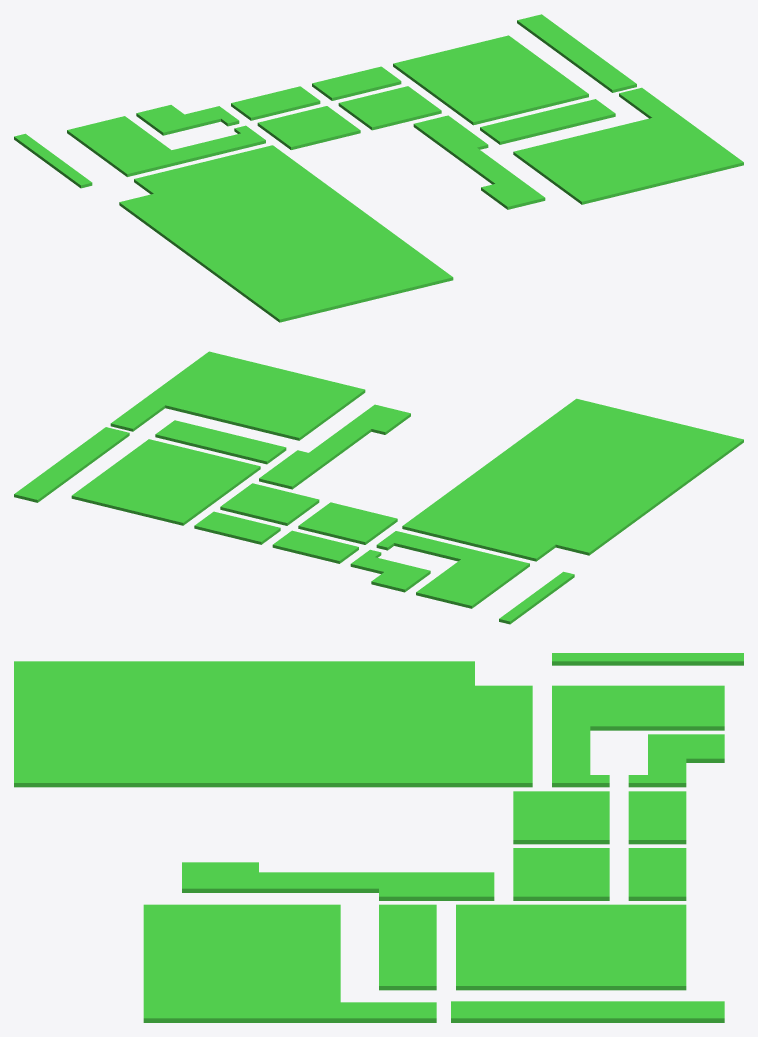
The model's file is ground.fbx.
The picture shows the model from 3 angles, top to bottom: view 1: azimuth 30°, elevation 25°; view 2: azimuth 150°, elevation 25°; view 3: azimuth 270°, elevation 25°; orthographic projection. The views are drawn at different scales.
Parts seen in each view (by area): view 1: Cube.1171, Cube.1160, Cube.1156, Cube.1142, Cube.1158, Cube.1157, Cube.1159, Cube.1143, Cube.1155, Cube.1231, Cube.1144, Cube.1154 (+1 smaller); view 2: Cube.1171, Cube.1160, Cube.1156, Cube.1142, Cube.1158, Cube.1157, Cube.1159, Cube.1155, Cube.1143, Cube.1231, Cube.1154, Cube.1144 (+1 smaller); view 3: Cube.1171, Cube.1160, Cube.1156, Cube.1142, Cube.1158, Cube.1159, Cube.1143, Cube.1155, Cube.1157, Cube.1231, Cube.1144, Cube.1154 (+1 smaller).
Boxes of the visible parts, <box> form: Cube.1171: <box>119,145,453,322</box>; Cube.1160: <box>513,87,743,204</box>; Cube.1156: <box>393,35,588,125</box>; Cube.1142: <box>67,116,265,176</box>; Cube.1158: <box>413,115,545,209</box>; Cube.1157: <box>480,99,615,144</box>; Cube.1159: <box>517,14,636,92</box>; Cube.1143: <box>257,106,360,149</box>; Cube.1155: <box>338,86,441,130</box>; Cube.1231: <box>136,105,239,135</box>; Cube.1144: <box>231,86,320,120</box>; Cube.1154: <box>312,66,401,100</box>; Cube.1171: <box>402,398,743,561</box>; Cube.1160: <box>110,351,365,440</box>; Cube.1156: <box>71,439,260,525</box>; Cube.1142: <box>376,531,529,608</box>; Cube.1158: <box>259,404,410,489</box>; Cube.1157: <box>155,420,286,464</box>; Cube.1159: <box>14,427,129,502</box>; Cube.1155: <box>220,483,319,525</box>; Cube.1143: <box>298,502,397,544</box>; Cube.1231: <box>350,549,430,592</box>; Cube.1154: <box>194,511,280,544</box>; Cube.1144: <box>272,530,358,563</box>; Cube.1171: <box>14,661,532,787</box>; Cube.1160: <box>143,904,436,1022</box>; Cube.1156: <box>456,904,686,990</box>; Cube.1142: <box>552,685,724,787</box>; Cube.1158: <box>182,862,494,900</box>; Cube.1159: <box>451,1001,724,1022</box>; Cube.1143: <box>513,791,609,844</box>; Cube.1155: <box>513,848,609,900</box>; Cube.1157: <box>379,904,436,990</box>; Cube.1231: <box>628,734,724,787</box>; Cube.1144: <box>628,791,686,844</box>; Cube.1154: <box>628,848,686,900</box>.
Bounding box in the file's own units: 36000 × 200 × 30400.
